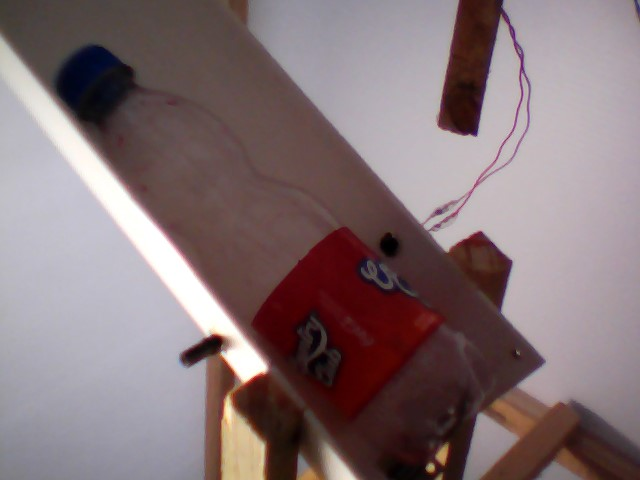plastico: (46, 32, 499, 480)
